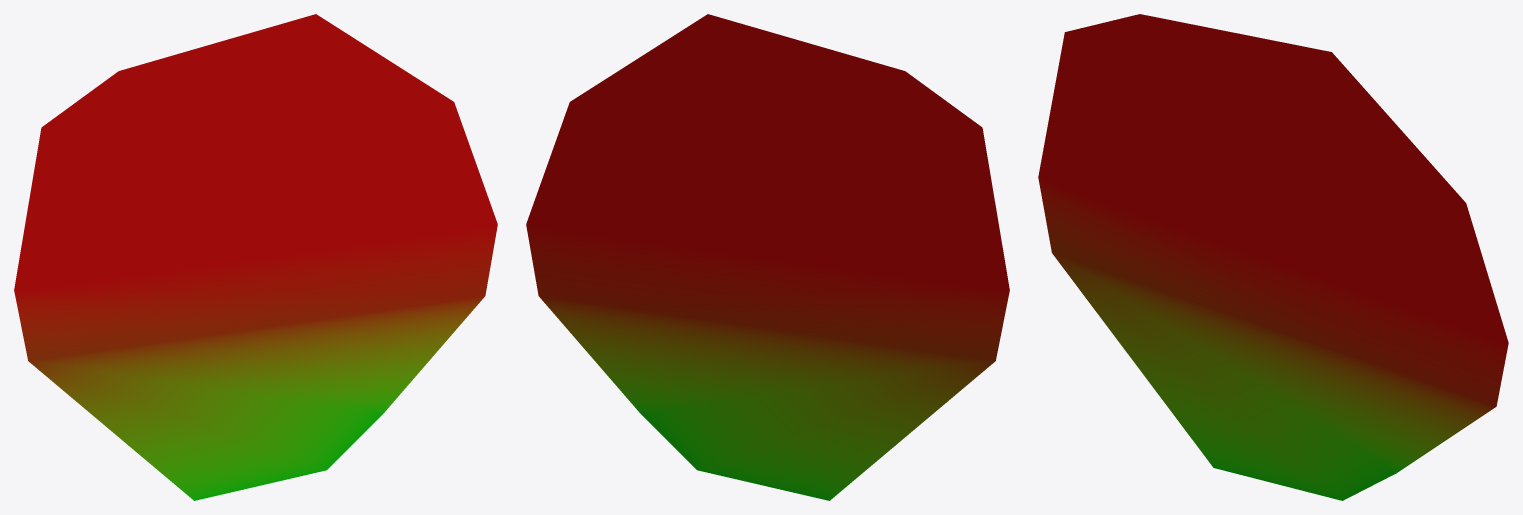
File: Butterfly Weed_LOD4_Var5.fbx
The picture shows the model from 3 angles, left to right: view 1: azimuth 30°, elevation 25°; view 2: azimuth 150°, elevation 25°; view 3: azimuth 330°, elevation 25°; orthographic projection. The views are drawn at different scales.
Visible parts, largest first — view 1: _2dlz_Var5_LOD4; view 2: _2dlz_Var5_LOD4; view 3: _2dlz_Var5_LOD4.
Part boxes in pixels (x1,y1,x2,y2): _2dlz_Var5_LOD4: [14, 14, 497, 500]; _2dlz_Var5_LOD4: [526, 14, 1009, 500]; _2dlz_Var5_LOD4: [1038, 14, 1508, 500].
Size of the model in its own units: 84.67 by 76.75 by 4.67e-06.
